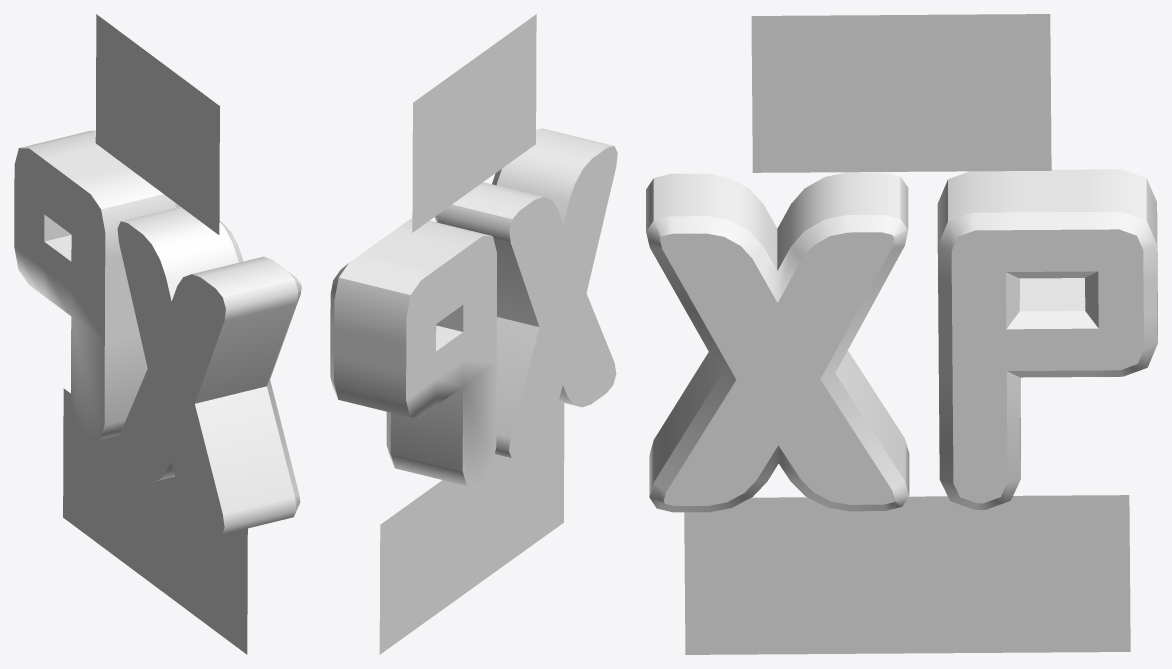
3 renders of one model, left to right at view 1: azimuth 30°, elevation 25°; view 2: azimuth 150°, elevation 25°; view 3: azimuth 270°, elevation 25°, orthographic. The views are drawn at different scales.
Visible parts, largest first — view 1: XP_Boost; view 2: XP_Boost; view 3: XP_Boost.
Boxes of the visible parts, x1,y1,x2,y2 form: XP_Boost: (14,14,301,654); XP_Boost: (330,14,617,654); XP_Boost: (646,14,1157,654).
Size of the model in its own units: 0.2368 by 1.47 by 1.07.
Materials: 1 (1 with a texture image).
